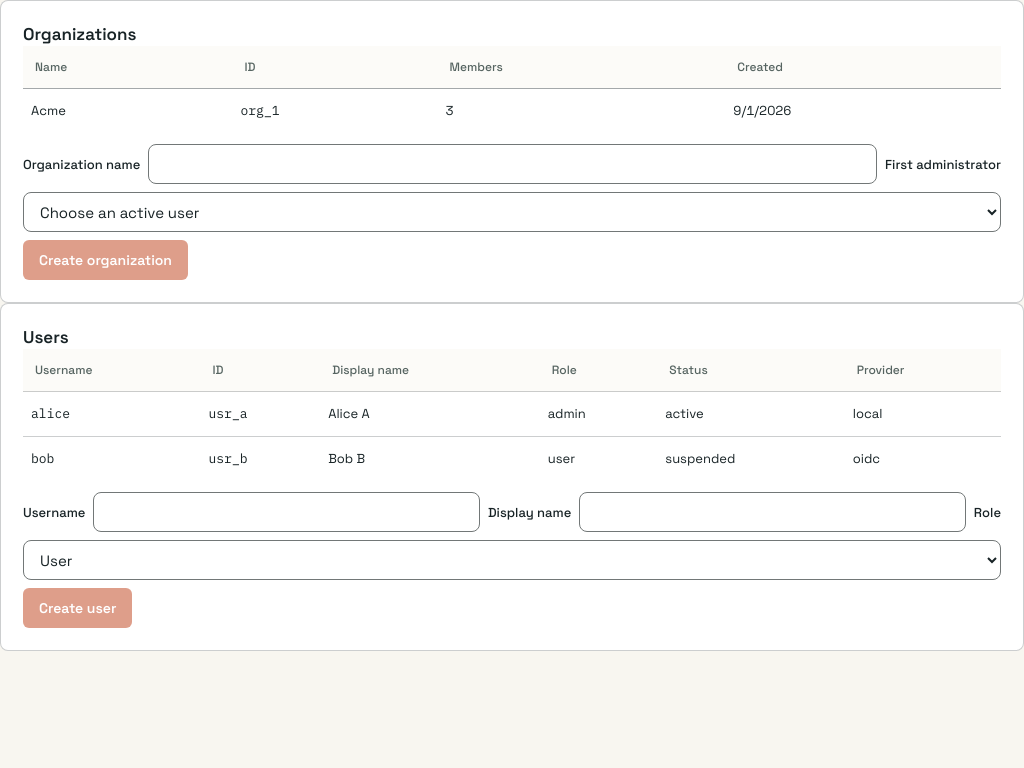
it: creates an organization with CSRF and clears the form
Expected: the text "Acme" is shown, [23,88,232,132]
Type "Beta" into the field labelled "Organization name".
click(513, 164); type("Beta")  # box [148,144,877,184]
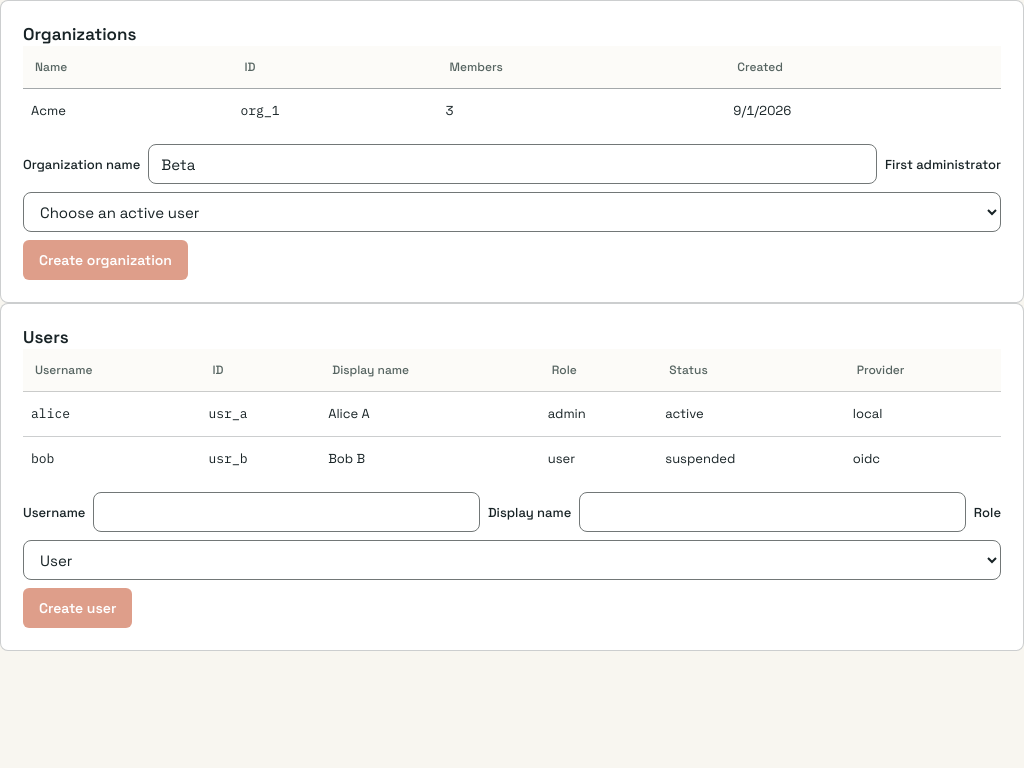
Select "alice (Alice A)" in the dropdown labelled "First administrator" at (512, 212), box [23,192,1001,232]
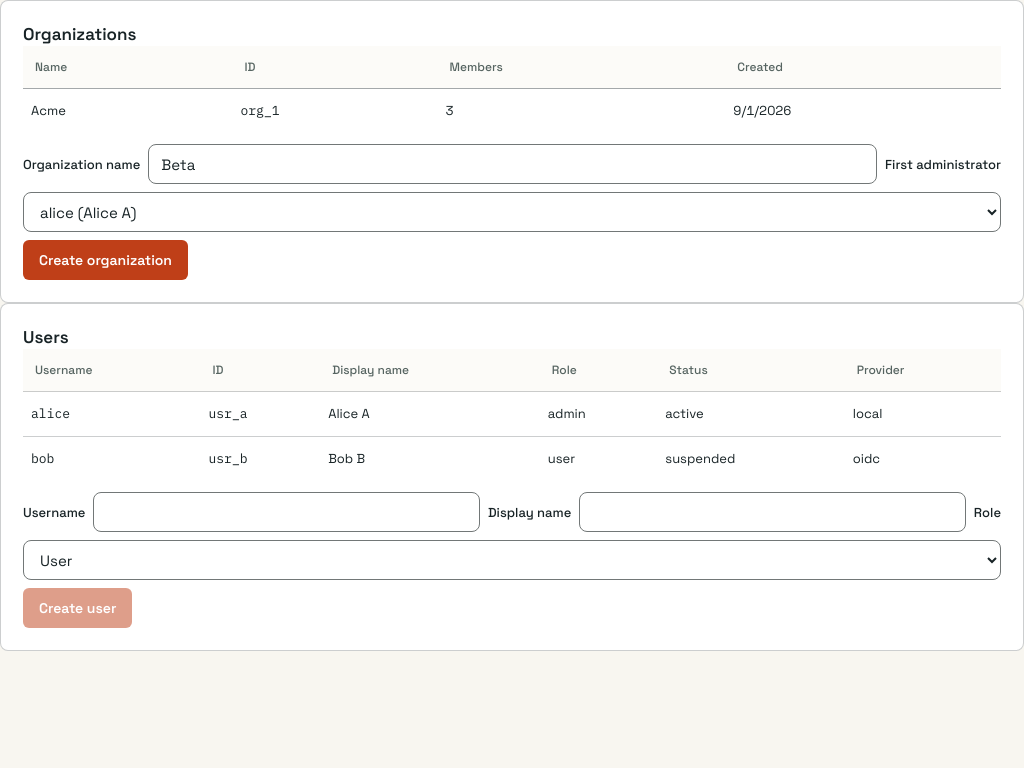
Click the button "Create organization".
click(106, 260)  # box [23,240,188,280]
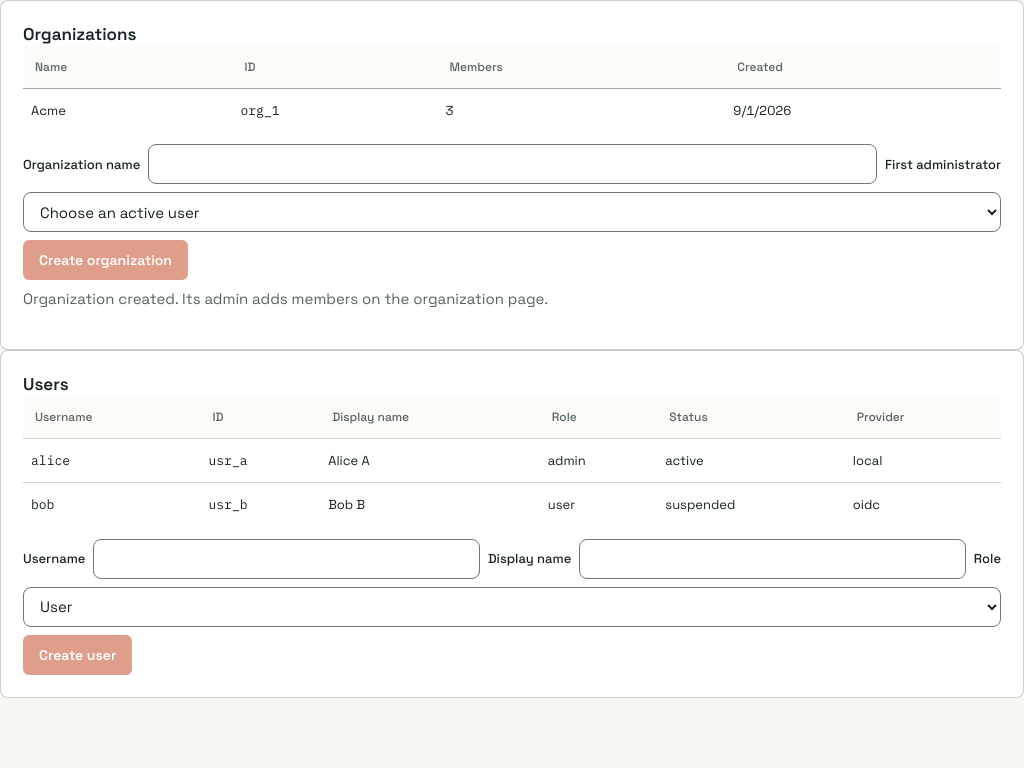
Expected: the text "Organization created. Its admin adds members on the organization page." is shown, [23,289,548,308]
Expected: the field labelled "Organization name" is empty, [148,144,877,184]
